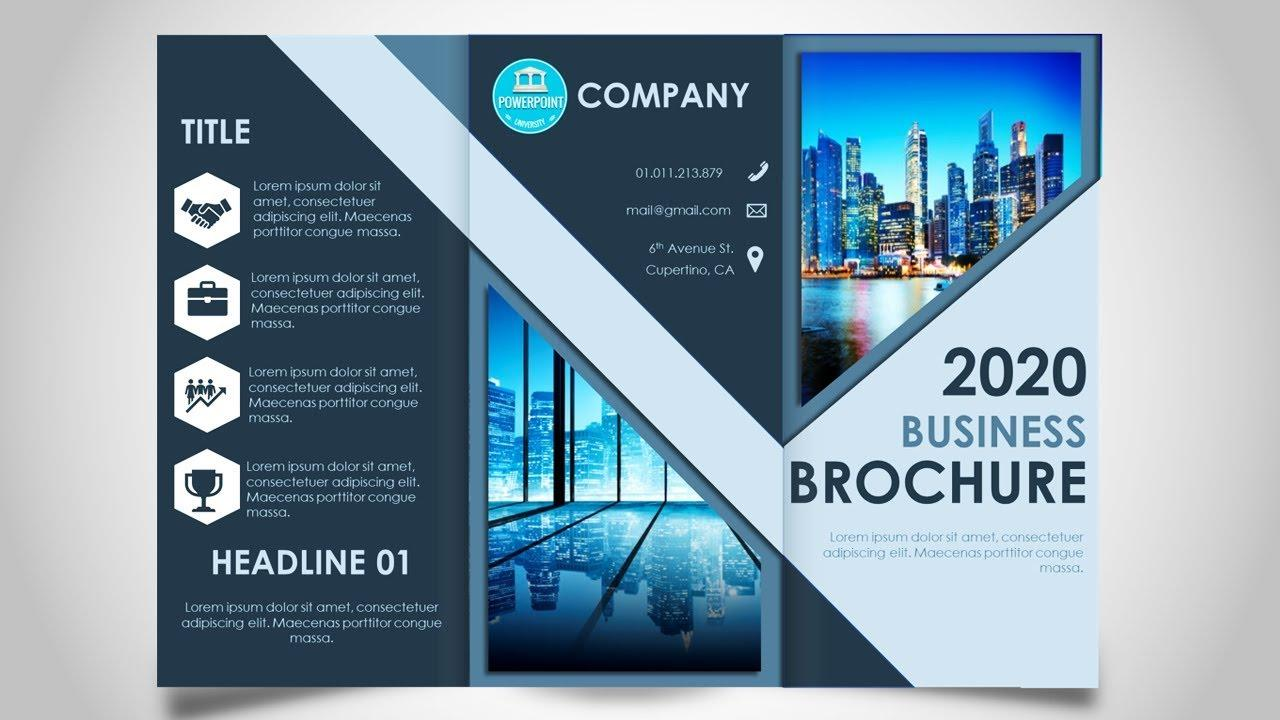paper: (157, 33, 1103, 688)
